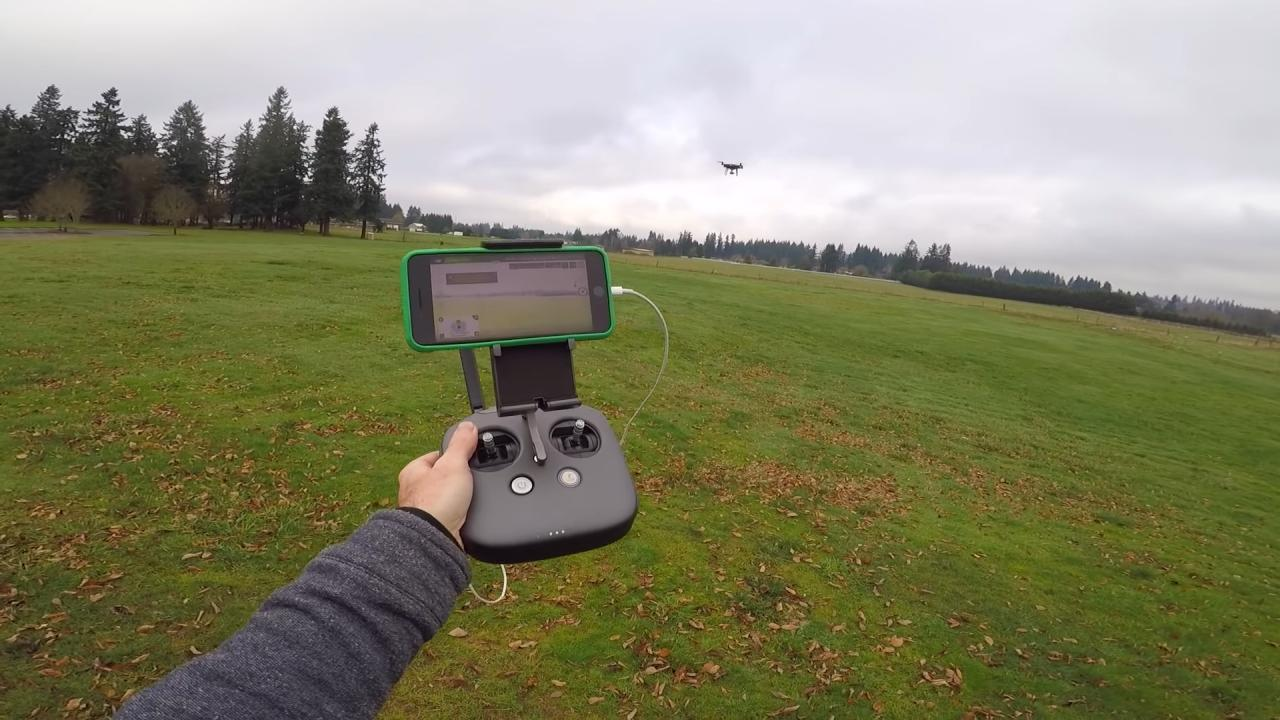Drone: (709, 151, 749, 188)
